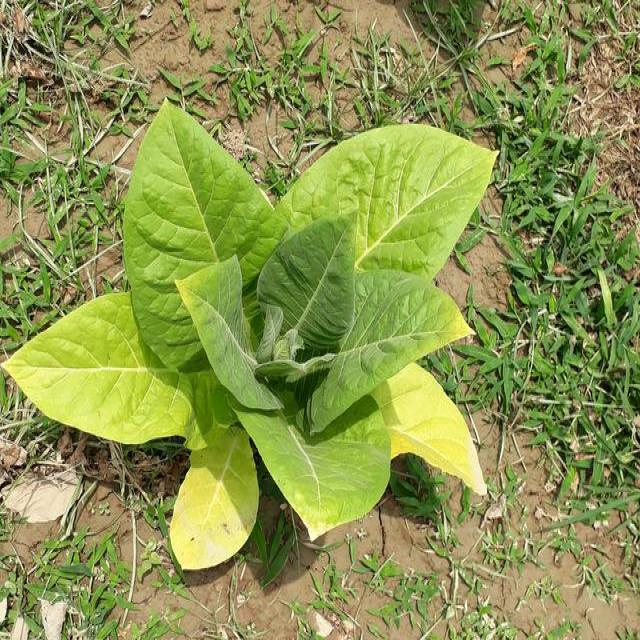crop: (8, 91, 500, 571)
